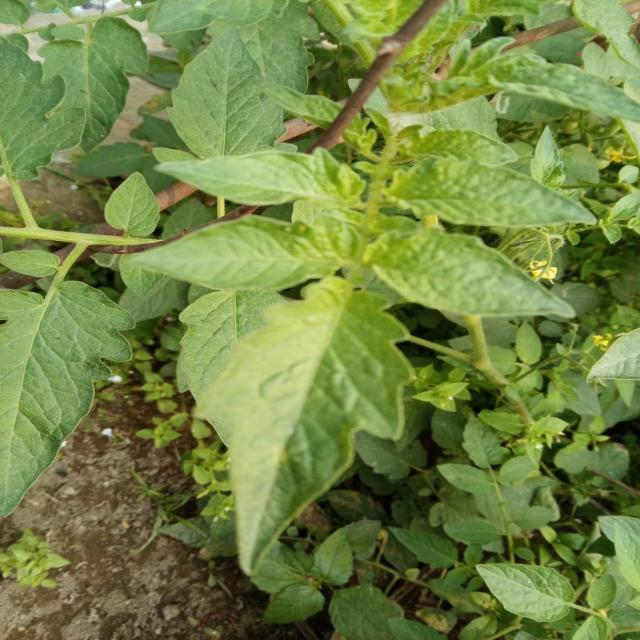Healthy: (126, 246, 461, 585), (0, 281, 134, 515), (358, 215, 586, 337), (145, 25, 298, 184), (133, 214, 359, 291), (385, 154, 598, 234), (159, 148, 365, 207)
